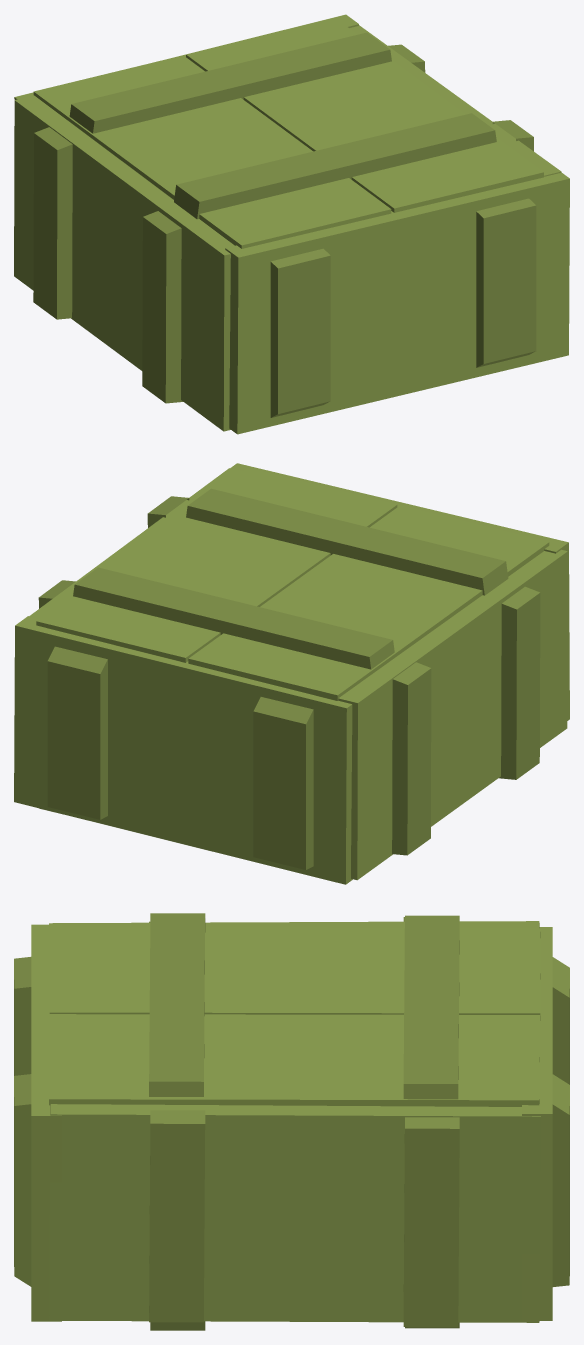
File: Amo_Box_1.FBX
3 views of the same model, one above another, from view 1: azimuth 30°, elevation 25°; view 2: azimuth 150°, elevation 25°; view 3: azimuth 270°, elevation 25° (orthographic). The views are drawn at different scales.
Visible parts, largest first — view 1: Amo_Box_1; view 2: Amo_Box_1; view 3: Amo_Box_1.
Boxes of the visible parts, x1,y1,x2,y2 form: Amo_Box_1: (14, 14, 569, 434); Amo_Box_1: (14, 463, 569, 884); Amo_Box_1: (14, 913, 569, 1330).
Size of the model in its own units: 0.736 by 0.4014 by 0.8235.
Materials: 1 (1 with a texture image).
